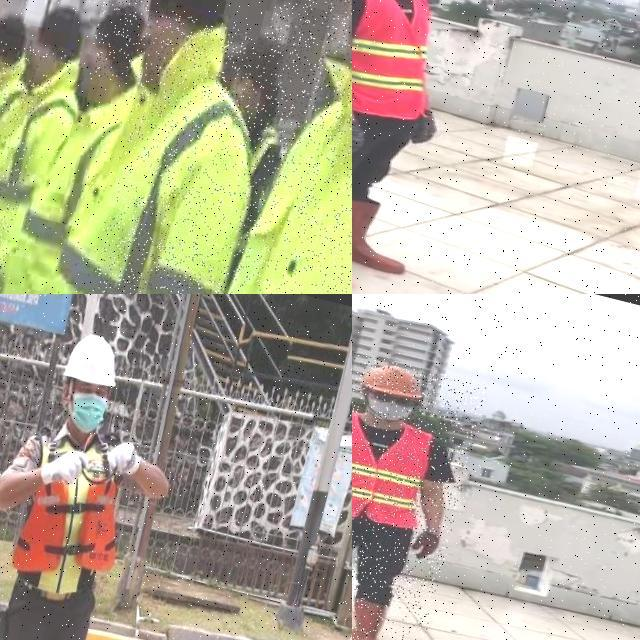boots: (352, 186, 422, 277), (352, 596, 400, 640)
helmet: (58, 328, 128, 396), (352, 357, 435, 406)
vest: (0, 0, 290, 294), (162, 0, 352, 294), (0, 66, 141, 294), (5, 426, 140, 605), (0, 38, 91, 294), (352, 0, 457, 127), (352, 405, 441, 532), (0, 39, 38, 294)
